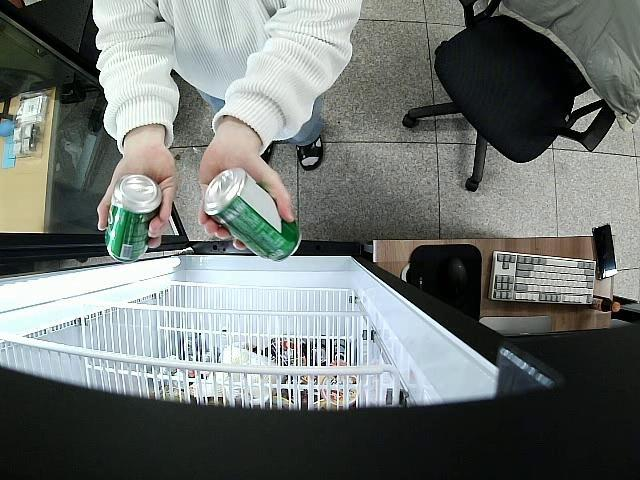12_chilsungCider: (202, 167, 302, 262), (105, 176, 162, 266)
